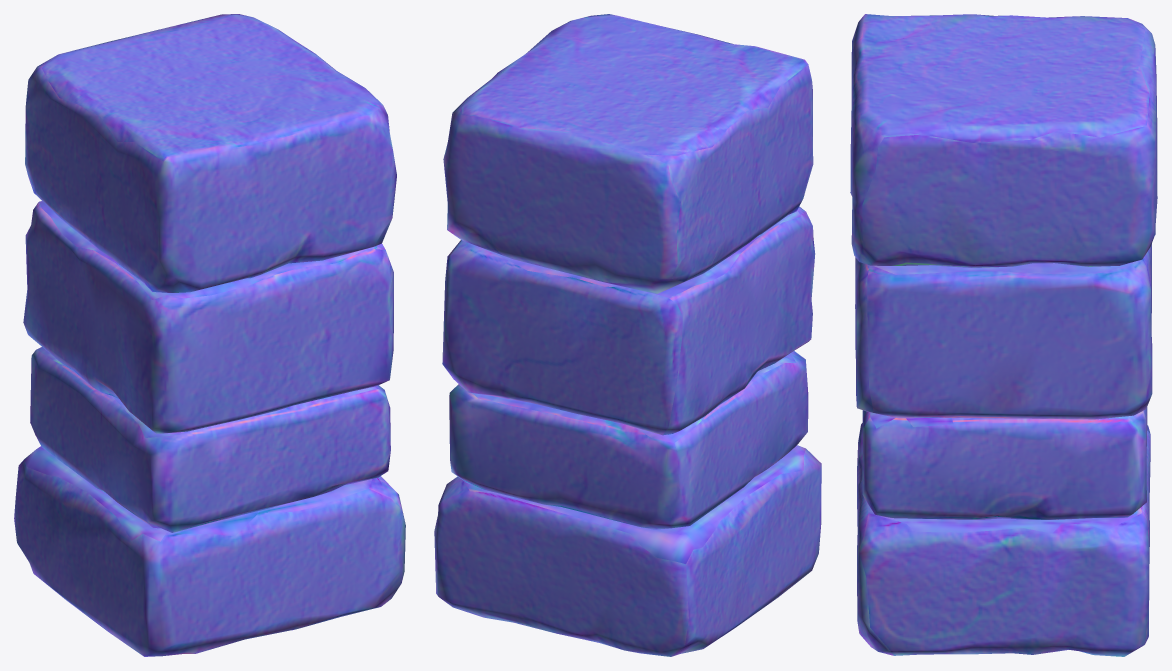
Rendered from pillar_middle_02a.fbx.
3 renders of one model, left to right at view 1: azimuth 30°, elevation 25°; view 2: azimuth 150°, elevation 25°; view 3: azimuth 270°, elevation 25°, orthographic. The views are drawn at different scales.
Visible parts, largest first — view 1: pillar_middle_02a_LOD0; view 2: pillar_middle_02a_LOD0; view 3: pillar_middle_02a_LOD0.
Part boxes in pixels (box(x1,y1,x2,y2)): pillar_middle_02a_LOD0: box(14, 14, 405, 656); pillar_middle_02a_LOD0: box(434, 14, 821, 656); pillar_middle_02a_LOD0: box(850, 14, 1157, 656).
Size of the model in its own units: 34.18 by 33.69 by 64.
Materials: 1 (1 with a texture image).
